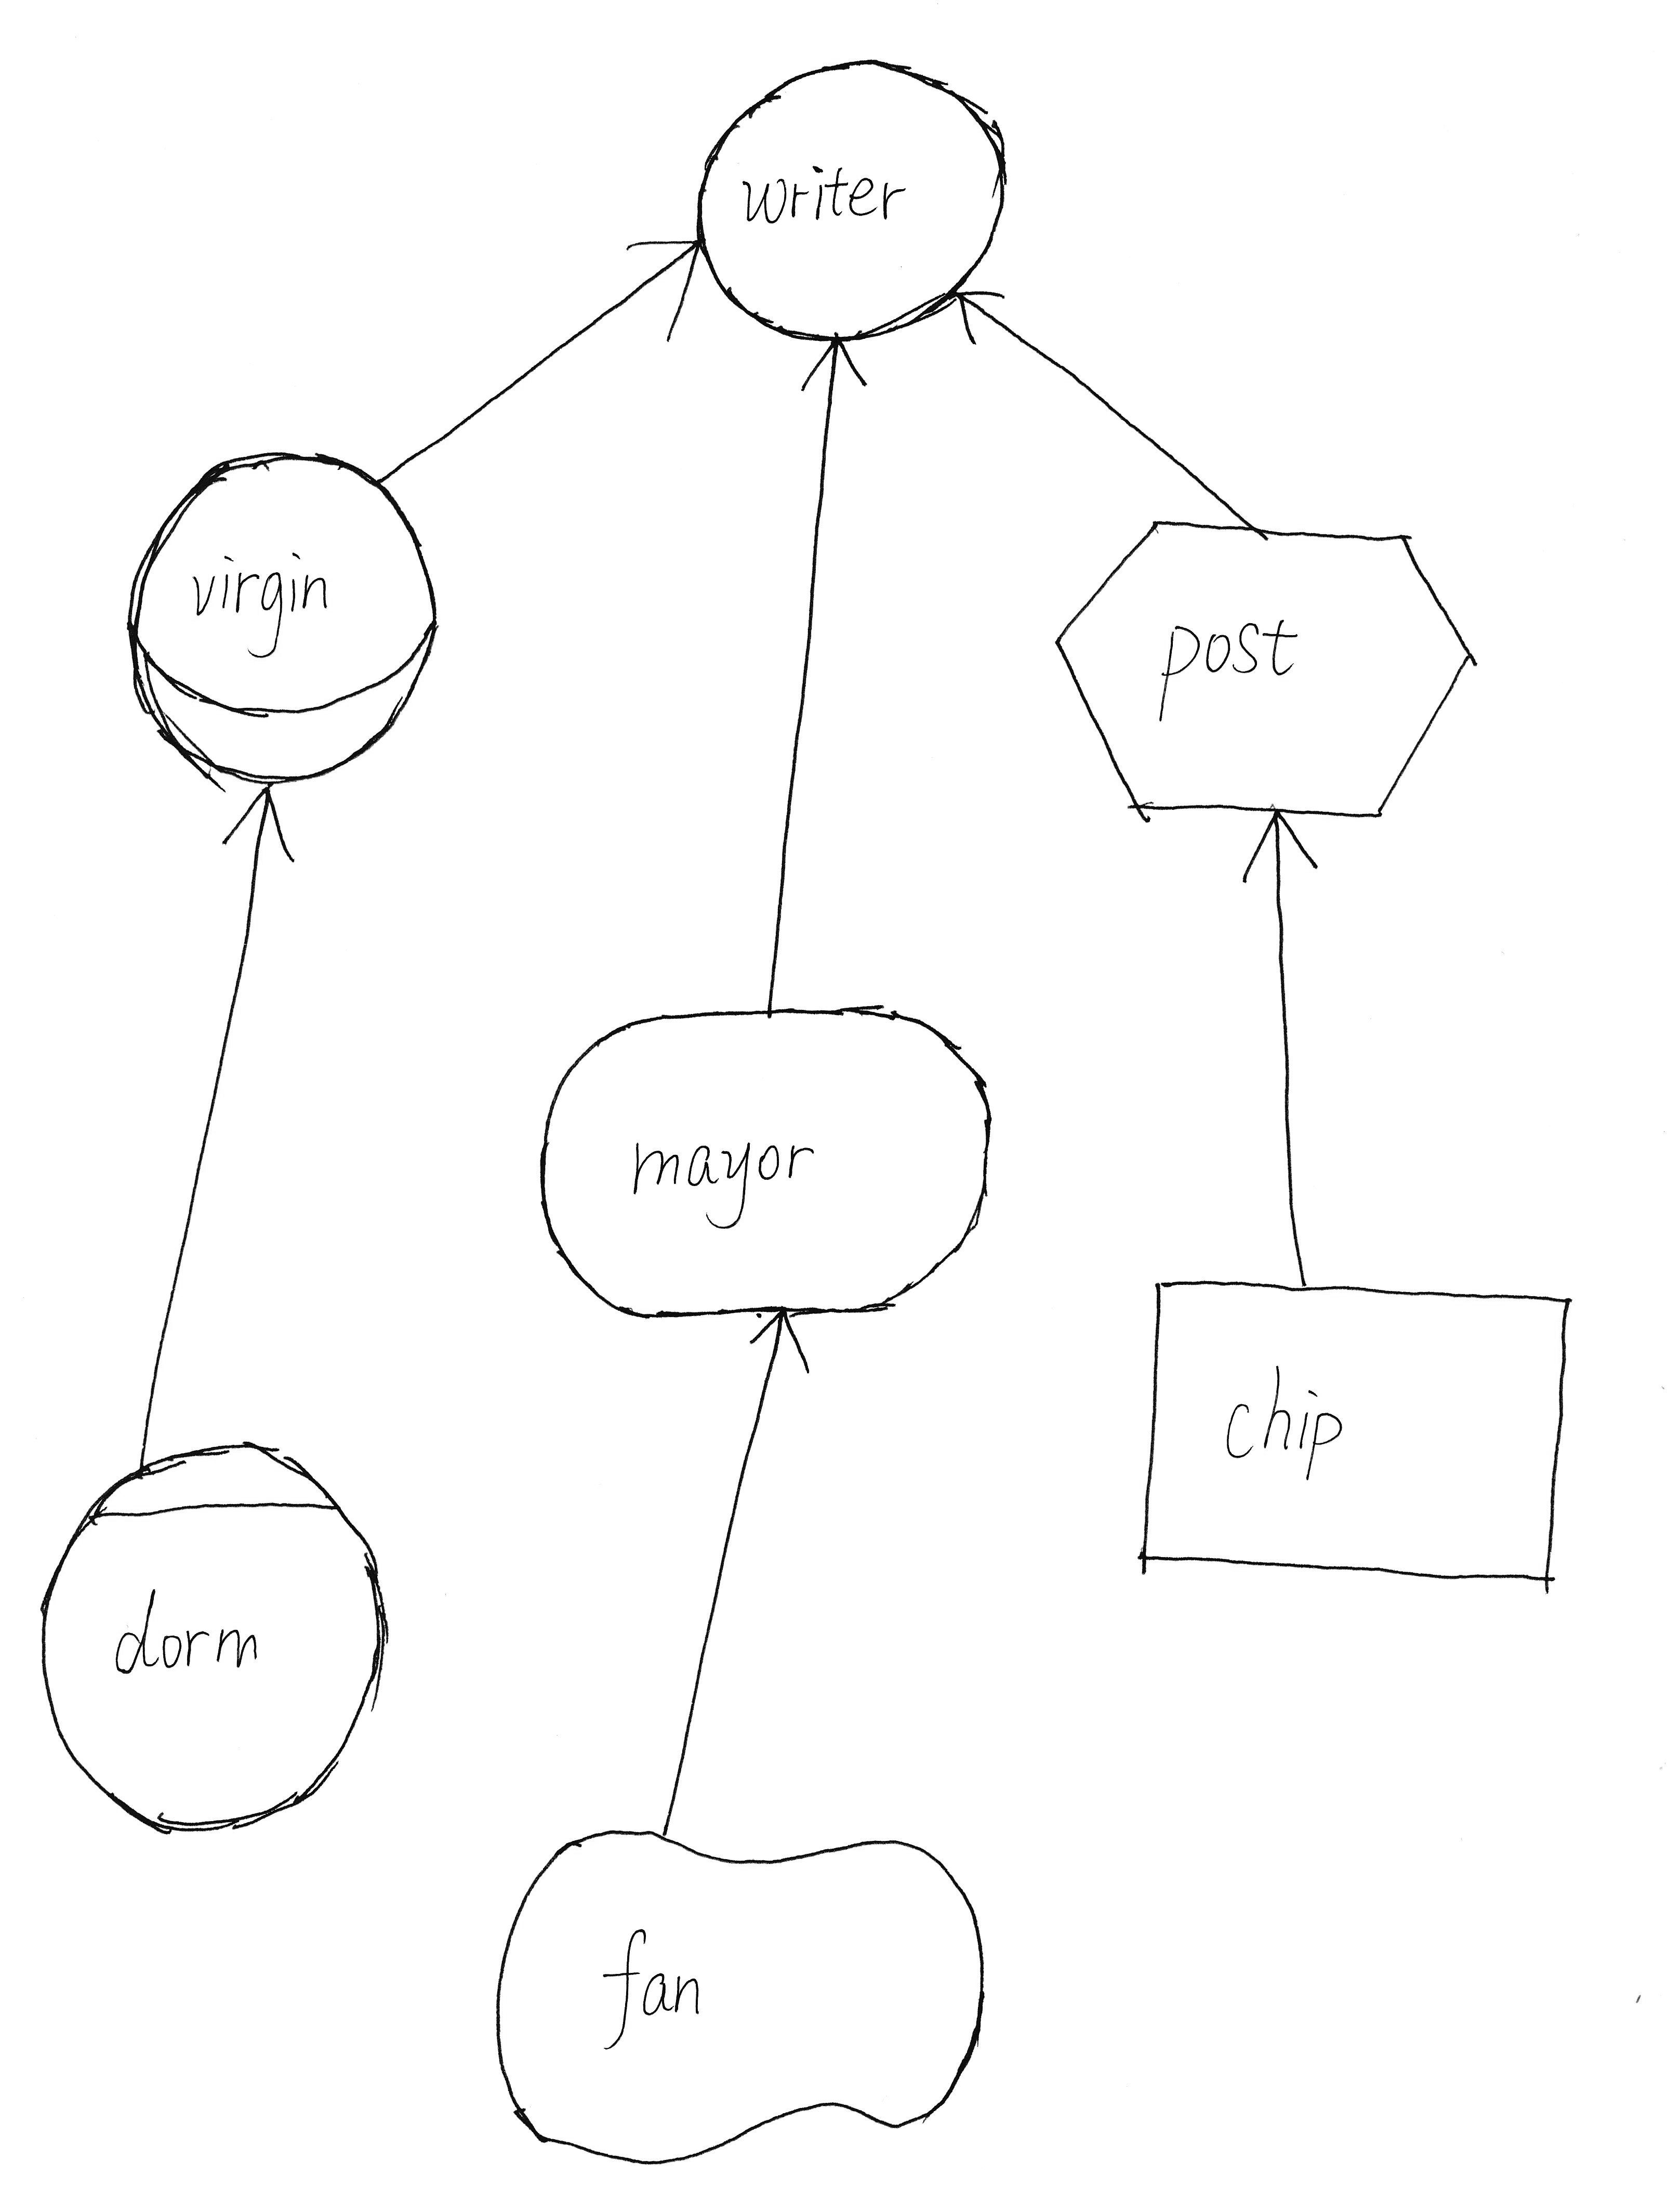actor: (664, 37, 1035, 366)
agent: (21, 1429, 419, 1861)
arrow: (615, 210, 722, 354), (194, 752, 310, 871), (1226, 783, 1342, 903), (920, 265, 1025, 379), (736, 1276, 830, 1388), (783, 312, 880, 417)
goal: (515, 982, 1013, 1341)
quality: (470, 1797, 1030, 2187)
resource: (1102, 1251, 1619, 1618)
role: (98, 435, 454, 812)
task: (1025, 496, 1505, 843)
